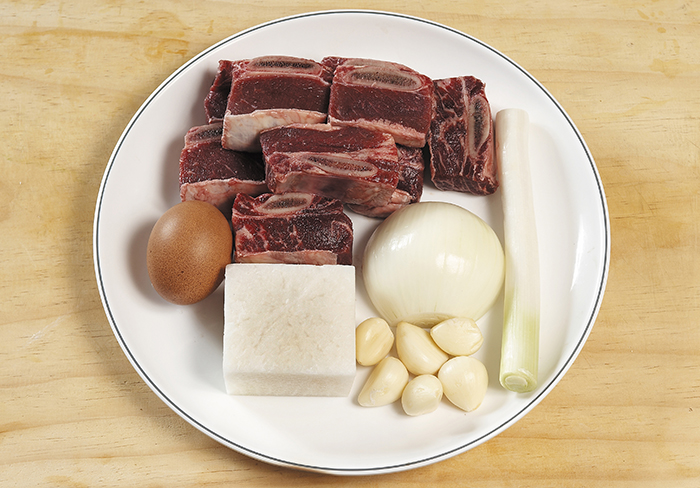Beef: (179, 49, 498, 267)
Cheese: (217, 258, 360, 399)
Egg: (145, 195, 234, 306)
Onion: (354, 194, 506, 334)
